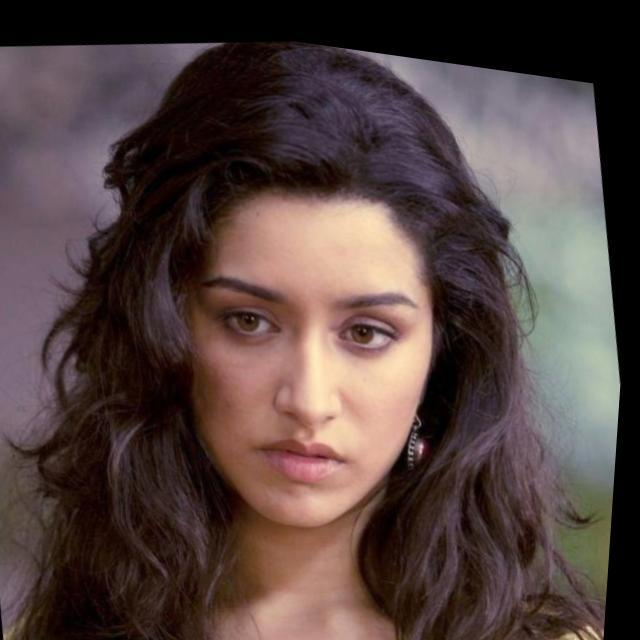Nonhelmet: (150, 106, 465, 532)
